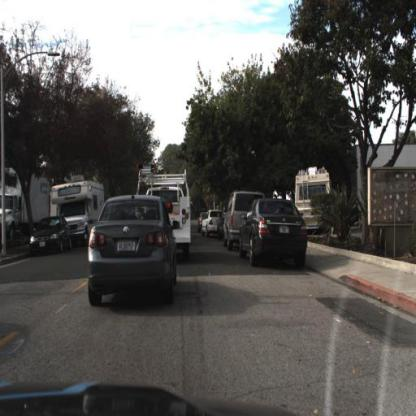car: (91, 195, 179, 307), (136, 162, 198, 256), (239, 197, 310, 269), (294, 161, 334, 238), (50, 181, 106, 235), (223, 193, 267, 254), (28, 212, 73, 259), (201, 211, 226, 240)
truck: (141, 181, 194, 260), (48, 176, 104, 249), (1, 164, 53, 240), (296, 170, 339, 246)
